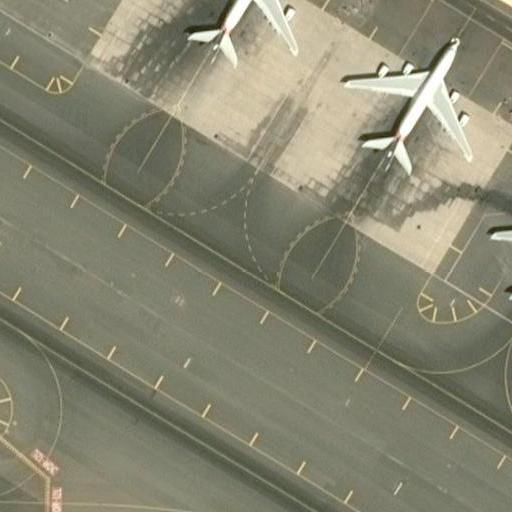Aircraft: (337, 21, 479, 181), (173, 1, 312, 67), (484, 176, 512, 330)
